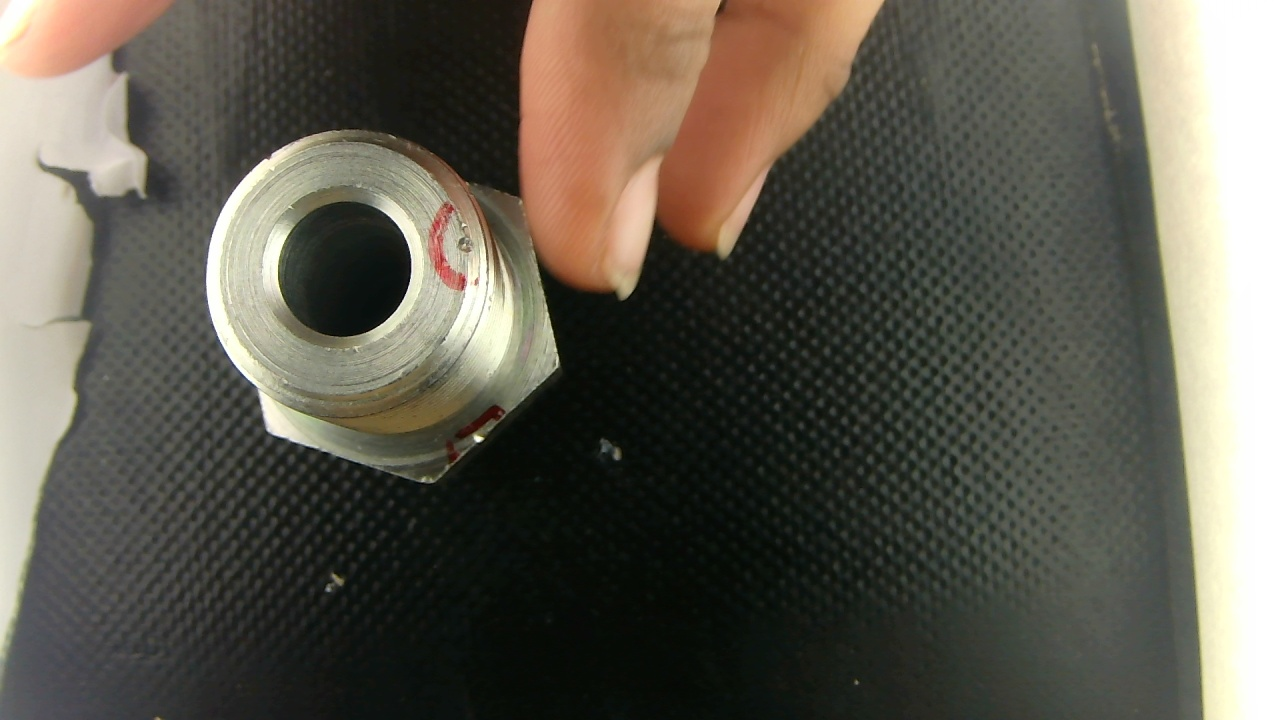SurfaceDent_Adaptor: (386, 132, 479, 206)
